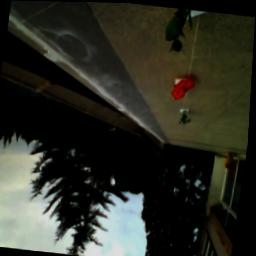herb: (162, 8, 195, 54), (180, 110, 193, 127)
wild: (172, 71, 197, 102)
